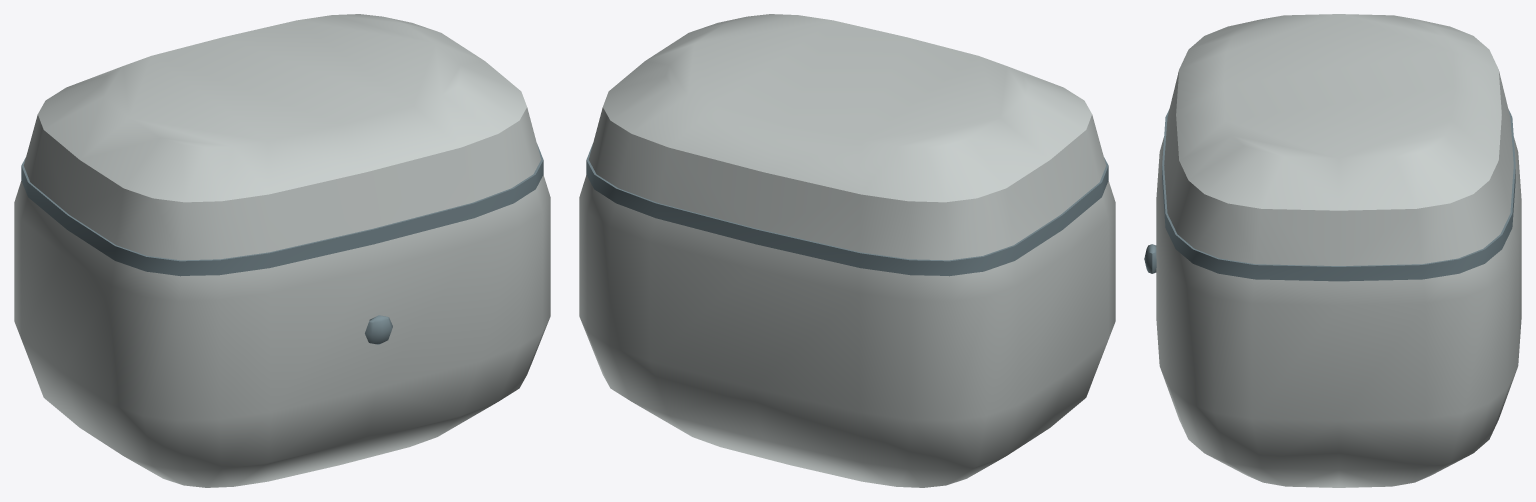
Rendered from earbuds-case.glb.
The picture shows the model from 3 angles, left to right: view 1: azimuth 30°, elevation 25°; view 2: azimuth 150°, elevation 25°; view 3: azimuth 270°, elevation 25°; orthographic projection. The views are drawn at different scales.
Parts seen in each view (by area): view 1: charging_case, hinged_lid, lid_seam, status_led; view 2: charging_case, hinged_lid, lid_seam; view 3: hinged_lid, charging_case, lid_seam.
Boxes of the visible parts, x1,y1,x2,y2 form: charging_case: (14,175,550,487); hinged_lid: (23,14,541,260); lid_seam: (21,144,543,276); status_led: (365,315,392,344); charging_case: (579,175,1115,487); hinged_lid: (588,14,1106,260); lid_seam: (586,144,1108,276); hinged_lid: (1164,14,1513,265); charging_case: (1156,136,1521,487); lid_seam: (1162,109,1515,281).
Size of the model in its own units: 0.062 by 0.046 by 0.0475.
